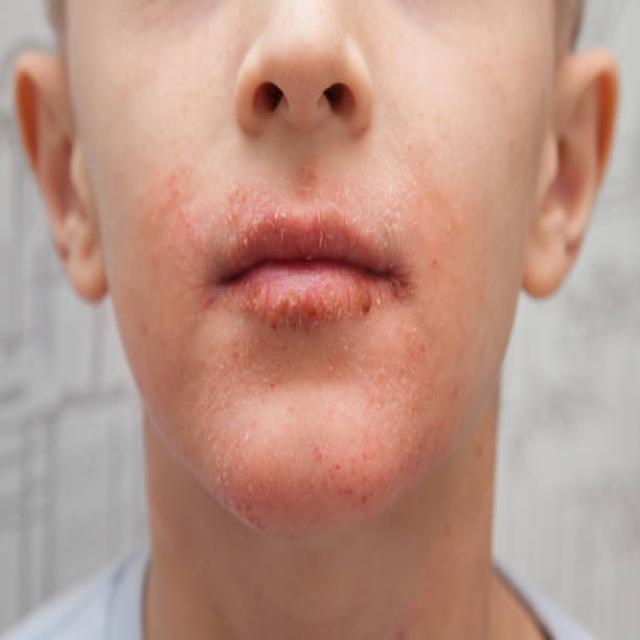dry: (190, 338, 431, 516), (393, 3, 520, 264)
